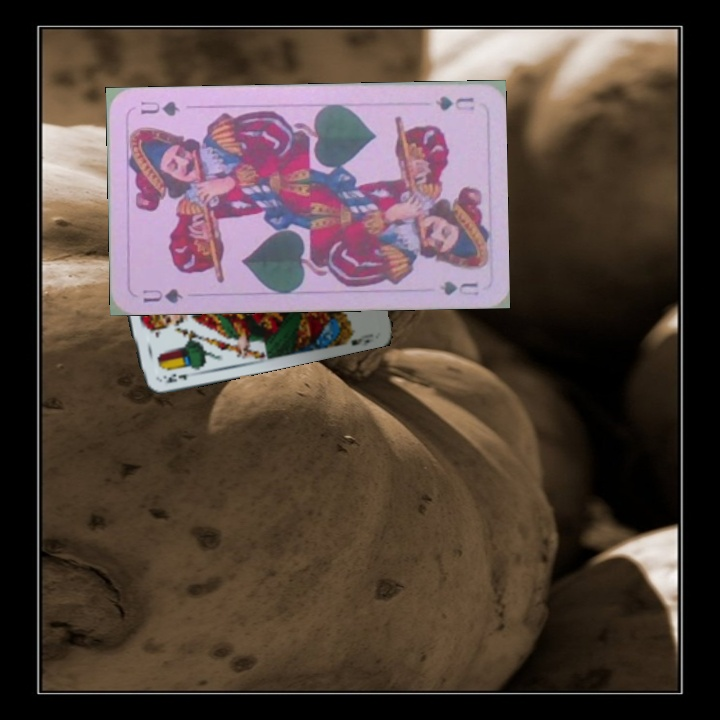EK: (159, 369, 190, 386)
GU: (138, 284, 185, 306), (432, 92, 477, 114)
